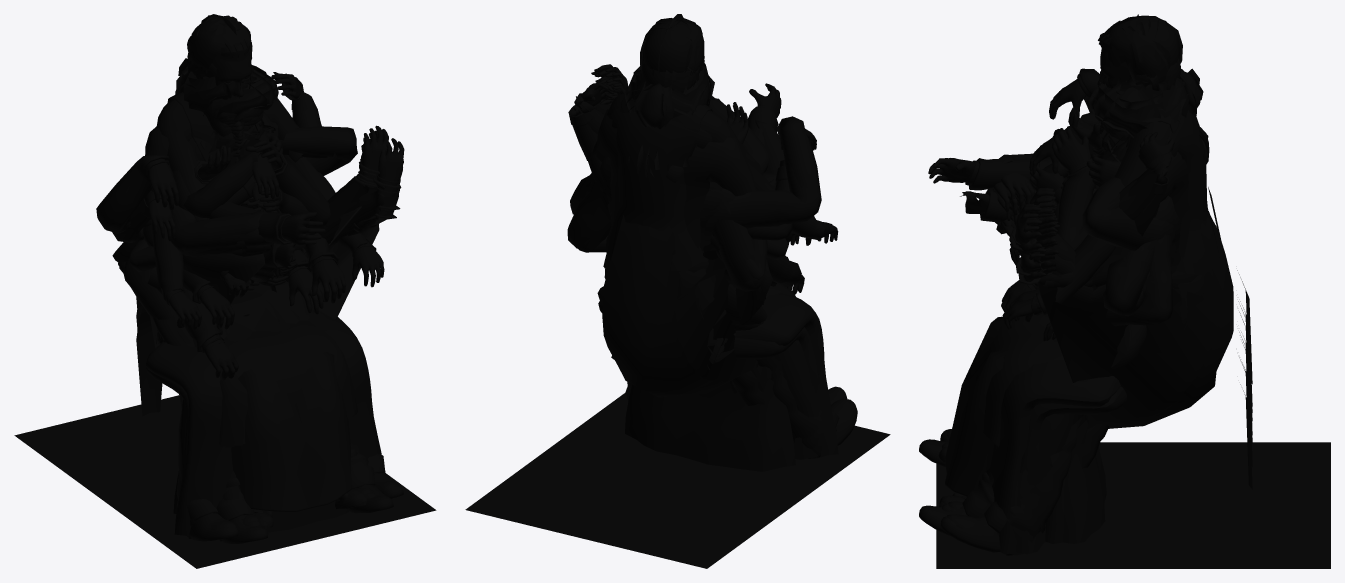
File: orchestra.glb
3 views of the same model, side by side, from view 1: azimuth 30°, elevation 25°; view 2: azimuth 150°, elevation 25°; view 3: azimuth 270°, elevation 25° (orthographic). The views are drawn at different scales.
Parts seen in each view (by area): view 1: Female_Adult_10 · body (×2), Contactschaduw, Business_Male_02 · body (×5), Avondjurk (×3), Business_Male_04 · body (×4), Rok (×2), Business_Male_05 · body (×3), Business_Male_01 · body (×3), Business_Male_03 · body (×2), Male_Adult_04 · opacity (×2), Business_Female_01 · body (×2), Slippen (+6 smaller); view 2: Contactschaduw, Female_Adult_10 · body (×2), Avondjurk (×2), Business_Male_02 · body (×4), Business_Female_03 · body (×2), Business_Male_03 · body (×3), Business_Male_04 · body (×3), Business_Male_05 · body (×2), Male_Adult_09 · head, Rok (×2), Business_Female_01 · body (×2), Business_Male_01 · body (+5 smaller); view 3: Contactschaduw, Female_Adult_10 · body (×2), Business_Male_02 · body (×5), Avondjurk (×2), Business_Male_04 · body (×4), Rok (×3), Business_Female_03 · body, Business_Male_05 · body (×3), Business_Male_01 · body (×3), Business_Male_03 · body (×3), Male_Adult_04 · opacity (×2), Business_Female_02 · body (×3) (+8 smaller).
Boxes of the visible parts, box(x1,y1,x2,y2) form: Female_Adult_10 · body (×2): box(149, 119, 379, 517); Contactschaduw: box(14, 395, 436, 568); Business_Male_02 · body (×5): box(96, 138, 404, 543); Avondjurk (×3): box(146, 275, 381, 535); Business_Male_04 · body (×4): box(156, 73, 397, 536); Rok (×2): box(171, 284, 357, 445); Business_Male_05 · body (×3): box(106, 125, 388, 529); Business_Male_01 · body (×3): box(123, 141, 400, 330); Business_Male_03 · body (×2): box(119, 122, 387, 530); Male_Adult_04 · opacity (×2): box(175, 65, 278, 122); Business_Female_01 · body (×2): box(112, 175, 309, 242); Slippen: box(136, 307, 162, 416); Contactschaduw: box(465, 393, 890, 568); Female_Adult_10 · body (×2): box(599, 99, 766, 397); Avondjurk (×2): box(597, 258, 838, 471); Business_Male_02 · body (×4): box(567, 83, 857, 458); Business_Female_03 · body (×2): box(572, 82, 765, 325); Business_Male_03 · body (×3): box(571, 109, 851, 430); Business_Male_04 · body (×3): box(573, 82, 852, 457); Business_Male_05 · body (×2): box(594, 64, 816, 345); Male_Adult_09 · head: box(639, 20, 691, 127); Rok (×2): box(598, 258, 819, 386); Business_Female_01 · body (×2): box(568, 96, 793, 391); Business_Male_01 · body: box(729, 161, 838, 393); Contactschaduw: box(936, 442, 1330, 568); Female_Adult_10 · body (×2): box(945, 133, 1233, 501); Business_Male_02 · body (×5): box(919, 68, 1181, 555); Avondjurk (×2): box(990, 273, 1178, 554); Business_Male_04 · body (×4): box(939, 115, 1178, 555); Rok (×3): box(983, 271, 1198, 473); Business_Female_03 · body: box(1119, 110, 1212, 295); Business_Male_05 · body (×3): box(938, 74, 1180, 512); Business_Male_01 · body (×3): box(950, 162, 1176, 512); Business_Male_03 · body (×3): box(930, 151, 1190, 536); Male_Adult_04 · opacity (×2): box(1088, 70, 1188, 138); Business_Female_02 · body (×3): box(960, 175, 1097, 288).
Size of the model in its own units: 1.06 by 1.74 by 1.31.
1 material, 1 textured.
